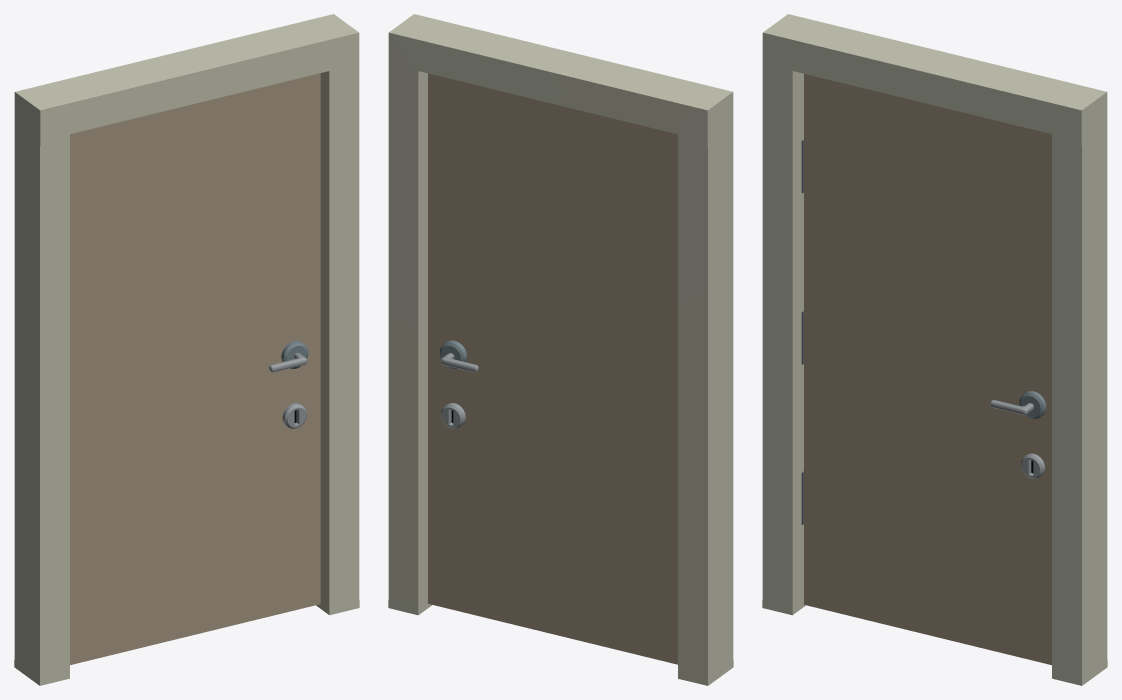
The model's file is Staff_Break_Room_Door.fbx.
3 views of the same model, side by side, from view 1: azimuth 30°, elevation 25°; view 2: azimuth 150°, elevation 25°; view 3: azimuth 330°, elevation 25° (orthographic).
Visible parts, largest first — view 1: pCylinder133, pCube81, pCylinder116; view 2: pCylinder133, pCube81, pCylinder113; view 3: pCylinder133, pCube81, pCylinder116.
Part boxes in pixels (box(x1,y1,x2,y2)): pCylinder133: box(70, 73, 320, 664); pCube81: box(14, 14, 359, 685); pCylinder116: box(269, 340, 308, 372); pCylinder133: box(428, 73, 677, 664); pCube81: box(388, 14, 733, 685); pCylinder113: box(439, 340, 478, 372); pCylinder133: box(804, 74, 1051, 664); pCube81: box(762, 14, 1107, 685); pCylinder116: box(990, 391, 1046, 419).
Size of the model in its own units: 1.23 by 2.12 by 0.2026.
